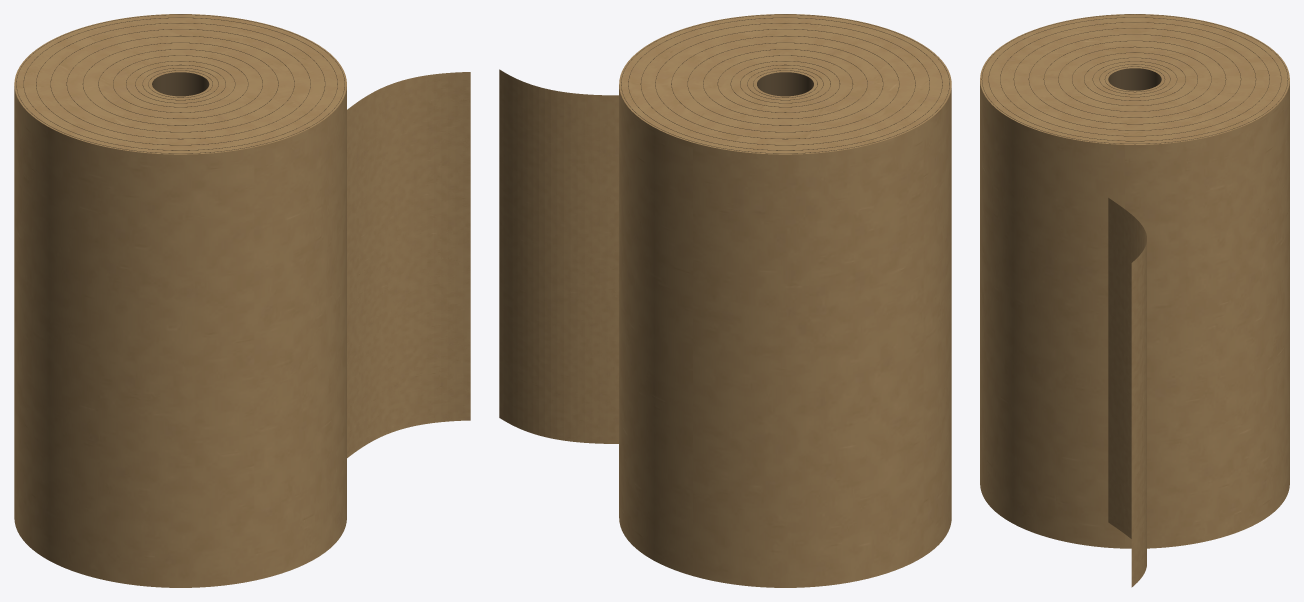
Rendered from kraft-roll.glb.
3 renders of one model, left to right at view 1: azimuth 30°, elevation 25°; view 2: azimuth 150°, elevation 25°; view 3: azimuth 270°, elevation 25°, orthographic. The views are drawn at different scales.
Parts seen in each view (by area): view 1: Hollow industrial paper roll, Thin free paper sheet, Fine winding line.011, Fine winding line.010, Fine winding line.009, Fine winding line.008; view 2: Hollow industrial paper roll, Thin free paper sheet, Fine winding line.011, Fine winding line.010, Fine winding line.009, Fine winding line.008; view 3: Hollow industrial paper roll, Thin free paper sheet, Fine winding line.011, Fine winding line.010, Fine winding line.009, Fine winding line.008, Fine winding line.007.
Part boxes in pixels (box(x1,y1,x2,y2)): Hollow industrial paper roll: box(14, 14, 346, 587); Thin free paper sheet: box(347, 72, 470, 457); Fine winding line.011: box(16, 14, 344, 153); Fine winding line.010: box(23, 17, 337, 150); Fine winding line.009: box(36, 23, 325, 145); Fine winding line.008: box(50, 29, 310, 139); Hollow industrial paper roll: box(619, 14, 951, 587); Thin free paper sheet: box(499, 69, 618, 443); Fine winding line.011: box(621, 14, 949, 153); Fine winding line.010: box(628, 17, 942, 150); Fine winding line.009: box(640, 23, 929, 145); Fine winding line.008: box(655, 29, 915, 139); Hollow industrial paper roll: box(980, 14, 1289, 548); Thin free paper sheet: box(1108, 198, 1146, 587); Fine winding line.011: box(981, 14, 1288, 144); Fine winding line.010: box(988, 17, 1281, 141); Fine winding line.009: box(1000, 22, 1269, 136); Fine winding line.008: box(1013, 28, 1256, 130); Fine winding line.007: box(1028, 34, 1241, 124).
Size of the model in its own units: 0.96 by 0.9207 by 0.64.
Materials: 2 (1 with a texture image).
